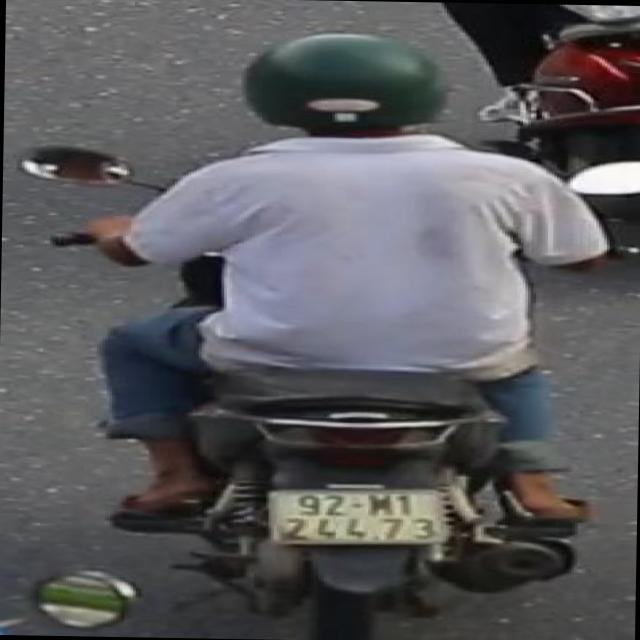LP: (260, 482, 454, 550)
helmet: (238, 24, 464, 164)
